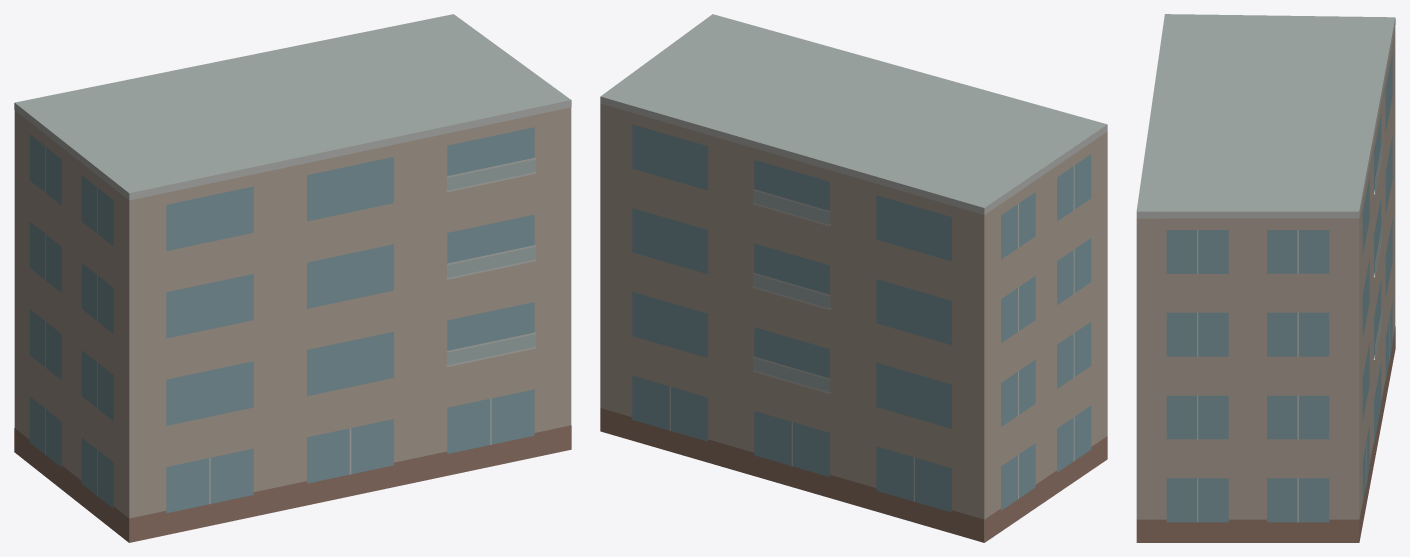
Rendered from survey-upis-32964710.glb.
3 renders of one model, left to right at view 1: azimuth 30°, elevation 25°; view 2: azimuth 150°, elevation 25°; view 3: azimuth 270°, elevation 25°, orthographic. The views are drawn at different scales.
Parts seen in each view (by area): view 1: survey-upis-32964710.tmp; view 2: survey-upis-32964710.tmp; view 3: survey-upis-32964710.tmp.
Boxes of the visible parts, x1,y1,x2,y2 form: survey-upis-32964710.tmp: [14, 14, 571, 542]; survey-upis-32964710.tmp: [600, 14, 1107, 542]; survey-upis-32964710.tmp: [1136, 14, 1395, 542].
Size of the model in its own units: 15.03 by 11.74 by 8.33.
